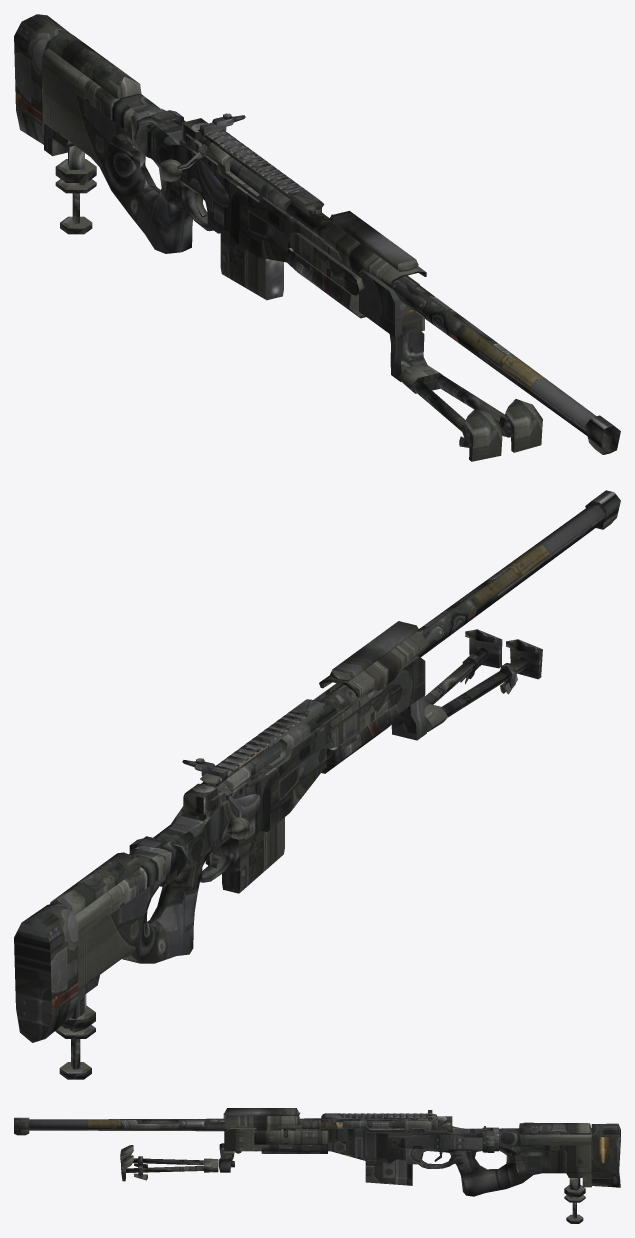
File: Sniper_Rifle_jjq_02_Body_Main_(000851).glb
The picture shows the model from 3 angles, top to bottom: view 1: azimuth 30°, elevation 25°; view 2: azimuth 150°, elevation 25°; view 3: azimuth 270°, elevation 25°; orthographic projection. The views are drawn at different scales.
Parts seen in each view (by area): view 1: jjq_02; view 2: jjq_02; view 3: jjq_02.
Boxes of the visible parts, <box> form: jjq_02: <box>14,14,620,461</box>; jjq_02: <box>14,490,620,1079</box>; jjq_02: <box>14,1108,620,1223</box>.
Size of the model in its own units: 0.1413 by 0.3609 by 1.8.
Materials: 1 (1 with a texture image).
